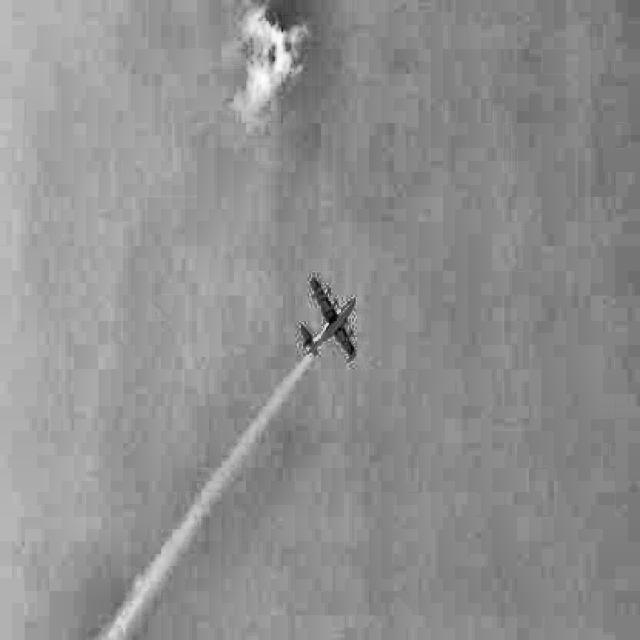US2: (299, 278, 356, 364)
